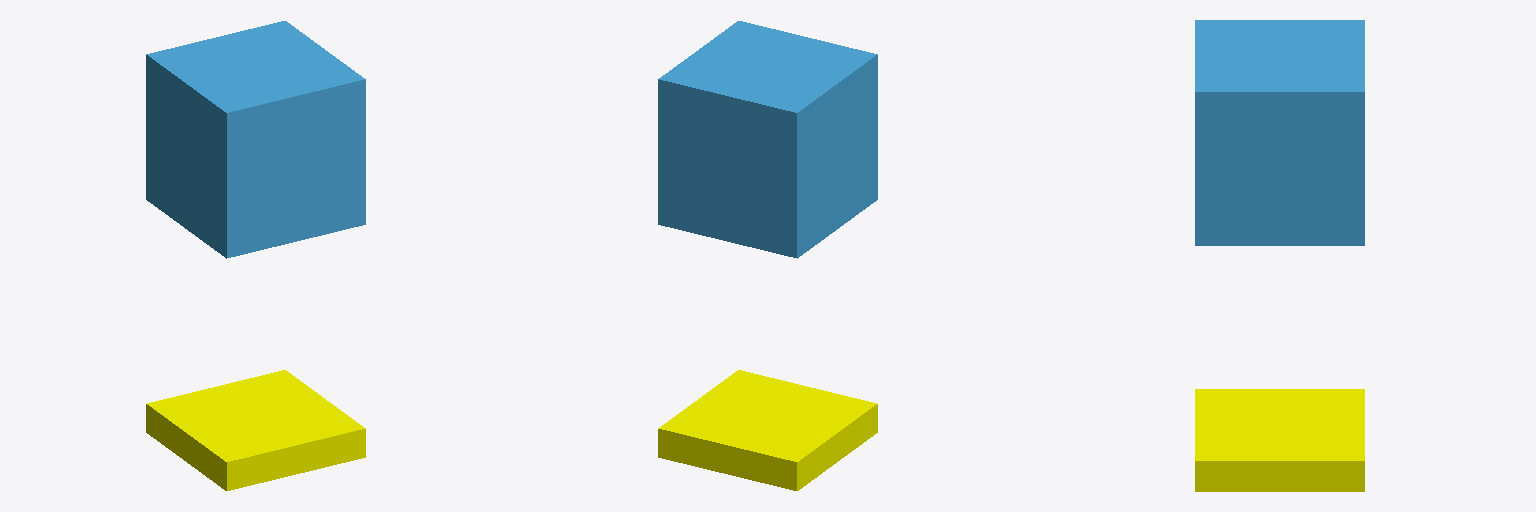
URDF robot description (basic_shapes):
<?xml version="1.0"?>
<robot name="basic_shapes">

  <material name="yellow">
    <color rgba="1 1 0 1"/>
  </material>
  <link name="base_link">
    <visual>
        <origin xyz="0 0 -1"/>
        <geometry>
            <box size="1.0 1.0 0.2"/>
        </geometry>
        <material name="yellow"/>
    </visual>
  </link>

  <link name="link1">
    <visual>
      <geometry>
        <box size="1 1 1"/>
      </geometry>
    </visual>
  </link>
  
  <joint name="joint1" type="fixed">
    <origin xyz="0 0 1"/>
    <parent link="base_link"/>
    <child link="link1"/>
  </joint>
</robot>

--- Render facts (derived) ---
Views: 3 orthographic renders of the robot side by side, from view 1: azimuth 30°, elevation 25°; view 2: azimuth 150°, elevation 25°; view 3: azimuth 270°, elevation 25°.
Robot: basic_shapes — 2 links, 1 joints (1 fixed); root link base_link; default pose: all joints at 0.
Links seen in each view (by area): view 1: link1, base_link; view 2: link1, base_link; view 3: link1, base_link.
Boxes of the visible links, left/top/right/bottom form: link1: left=146, top=21, right=365, bottom=258; base_link: left=146, top=370, right=365, bottom=490; link1: left=658, top=21, right=877, bottom=258; base_link: left=658, top=370, right=877, bottom=490; link1: left=1195, top=20, right=1364, bottom=245; base_link: left=1195, top=389, right=1364, bottom=491.
Bounding box of the posed robot: 1 × 1 × 2.6 m (x, y, z).
Geometry: primitives only (box / cylinder / sphere), no mesh files.